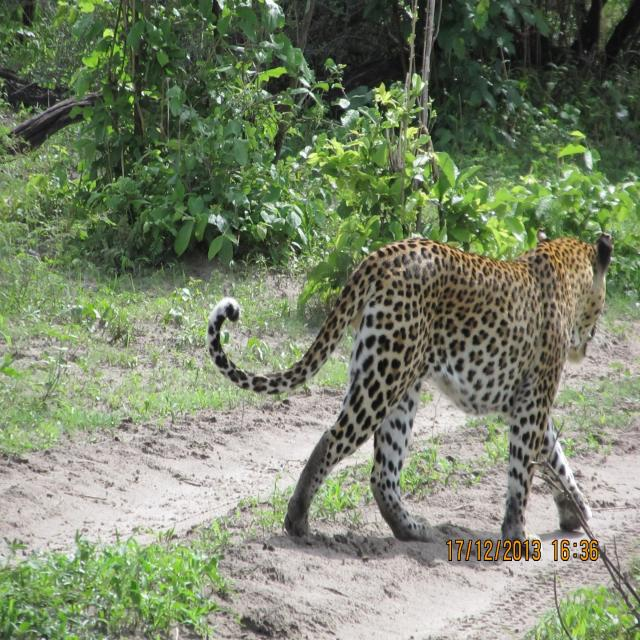Leopard: (209, 230, 622, 560)
